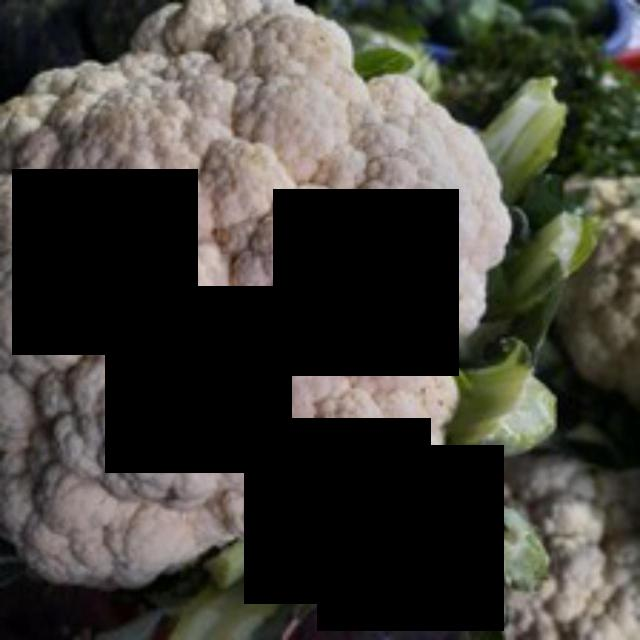cauliflower: (0, 0, 517, 597)
